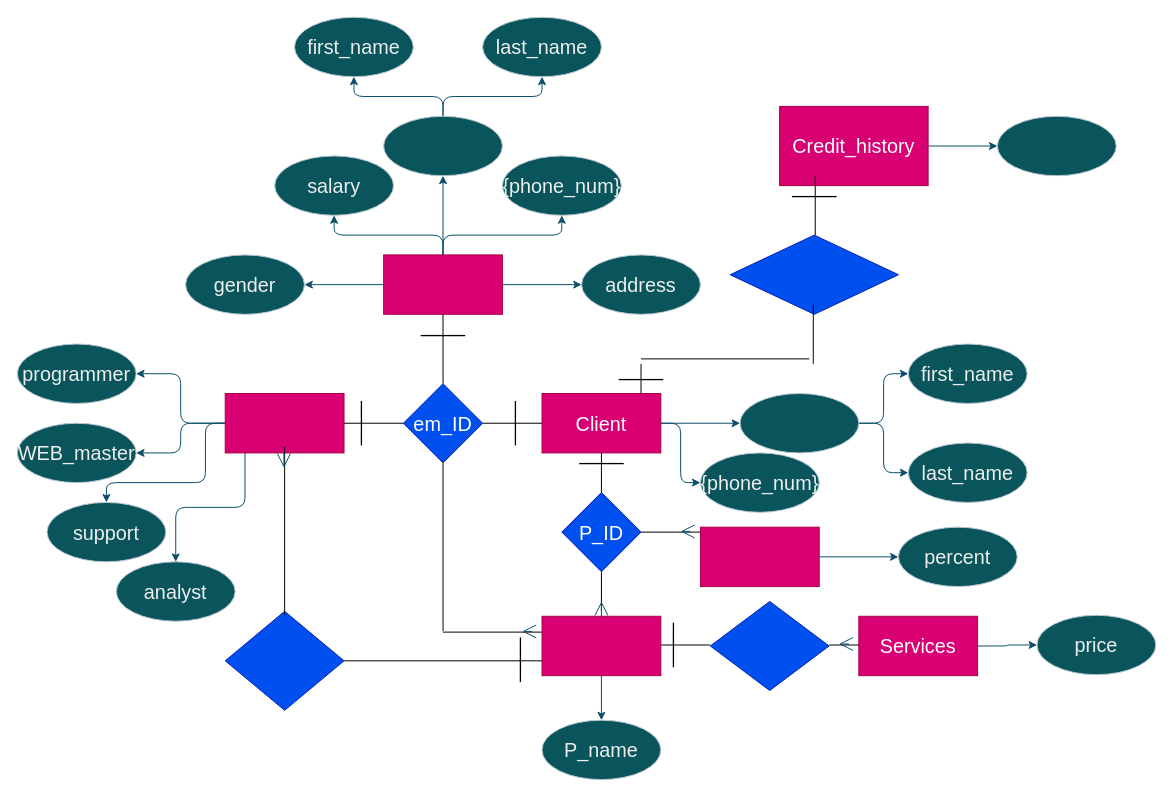
This 1173x797 diagram has some shape labels left out. The box of each missing label's shape, as (x1, y1, x2, y2) in pixels:
c_name: (739, 393, 859, 453)
client_ID: (729, 234, 898, 314)
Cur_proj: (541, 615, 661, 676)
Department: (224, 393, 344, 453)
Employee: (383, 254, 502, 314)
investors: (699, 526, 819, 587)
name: (383, 115, 502, 176)
P_dept: (224, 610, 344, 710)
rating: (996, 115, 1116, 176)
serv_name: (709, 600, 829, 691)
